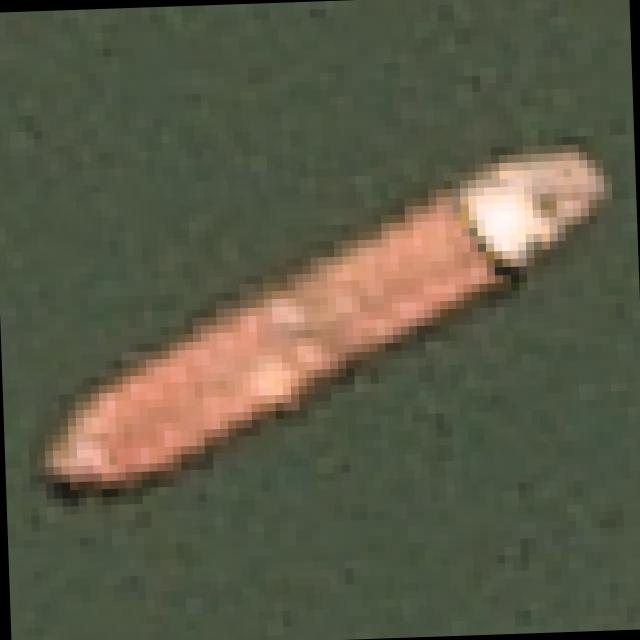ship: (2, 106, 624, 507)
